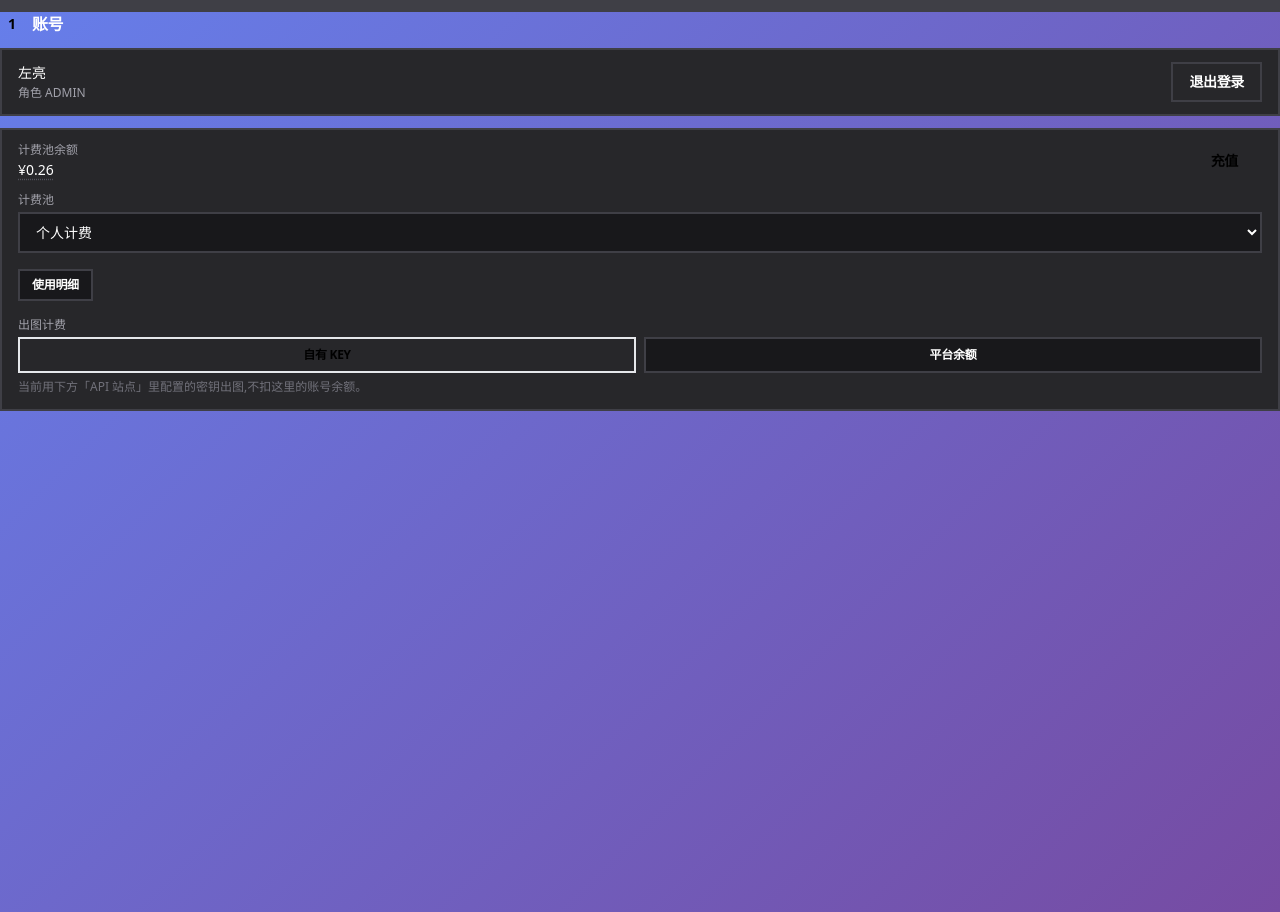
Test case: AccountSection › 计费来源开关 › 切换失败时停在自有 Key,并把原因显示出来
Click the button with test id "billing-platform": [953, 355] box [644,337,1262,373]
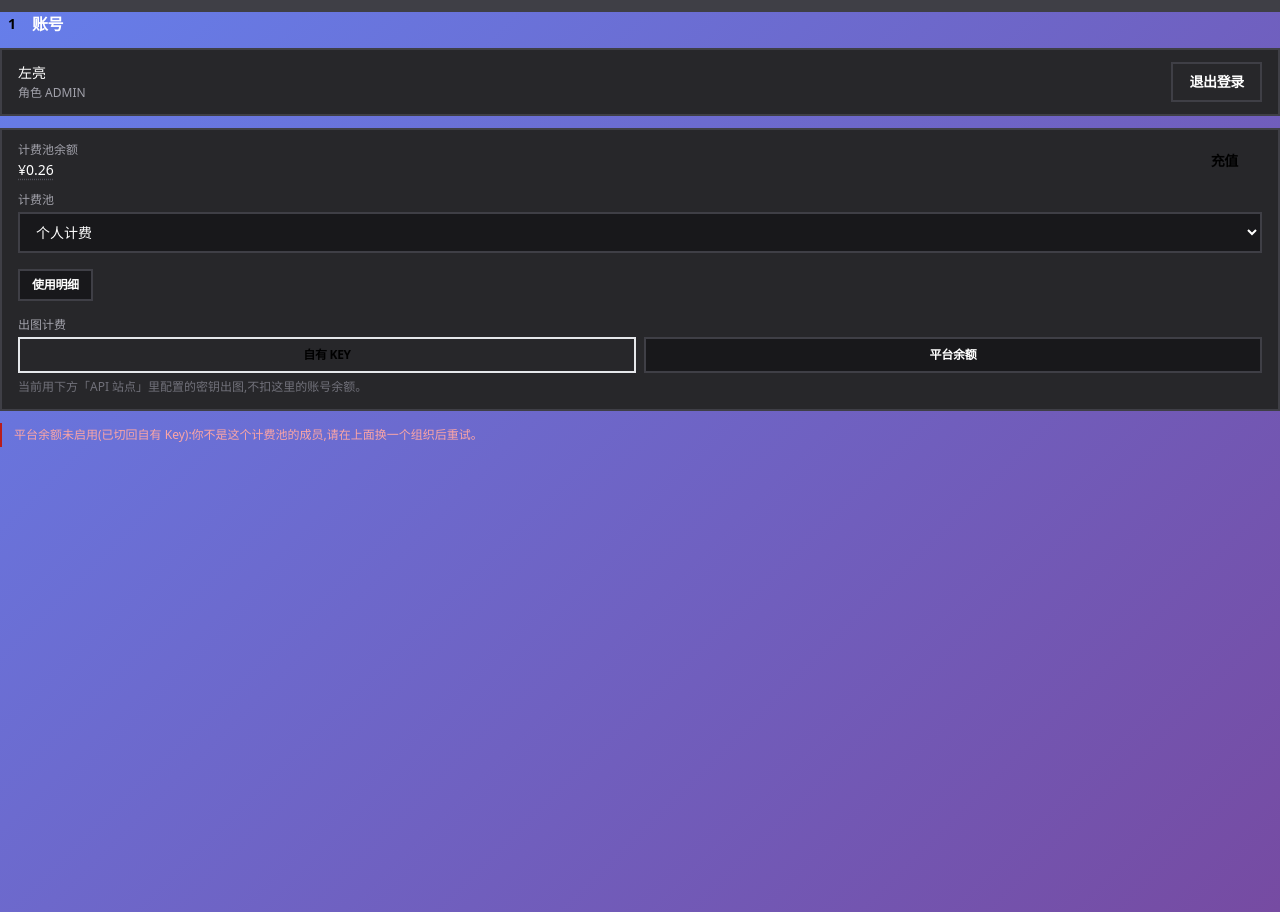
Expected: the text "平台余额未启用(已切回自有 Key):你不是这个计费池的成员,请在上面换一个组织后重试。" is shown, [0,422,1279,446]
